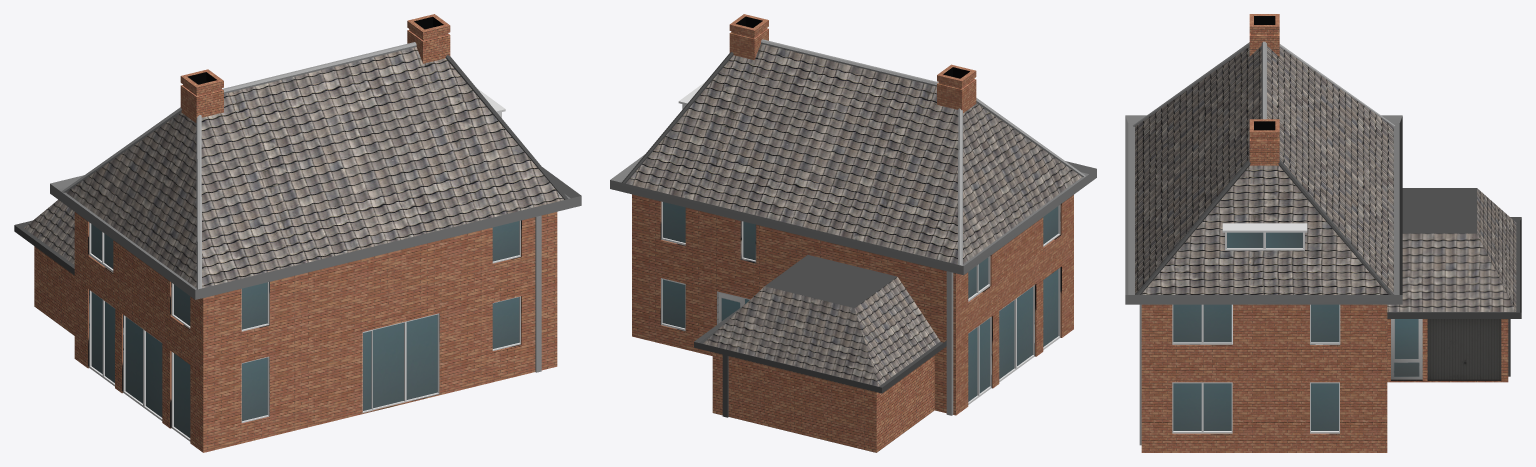
File: Greide 1.fbx
3 views of the same model, side by side, from view 1: azimuth 30°, elevation 25°; view 2: azimuth 150°, elevation 25°; view 3: azimuth 270°, elevation 25° (orthographic). The views are drawn at different scales.
Visible parts, largest first — view 1: Greide_1; view 2: Greide_1; view 3: Greide_1.
Part boxes in pixels (x1=…): Greide_1: x1=14, y1=14, x2=581, y2=452; Greide_1: x1=610, y1=14, x2=1096, y2=452; Greide_1: x1=1125, y1=14, x2=1521, y2=452.
Bounding box in the file's own units: 14.1 × 10.88 × 13.14.
2 materials, 1 textured.
